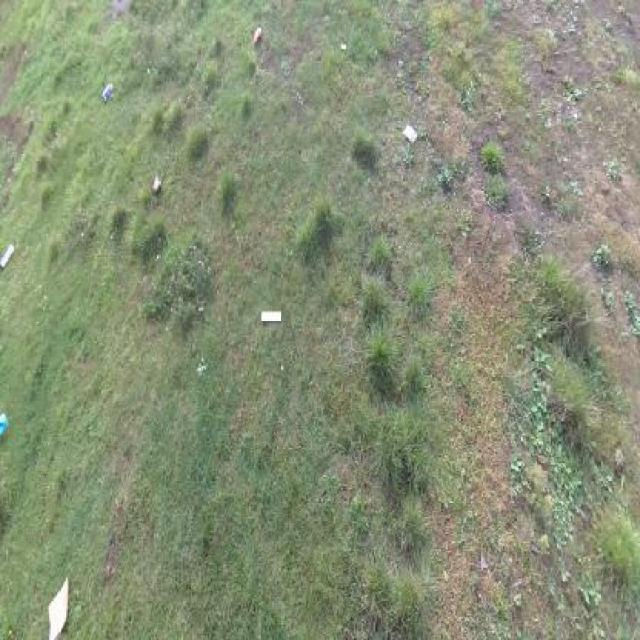Garbage: (47, 574, 69, 640), (0, 243, 16, 270), (402, 123, 419, 145), (101, 81, 116, 102), (261, 311, 281, 322), (151, 173, 161, 195), (253, 24, 263, 45), (0, 412, 8, 436), (340, 43, 347, 51), (399, 58, 404, 66)
